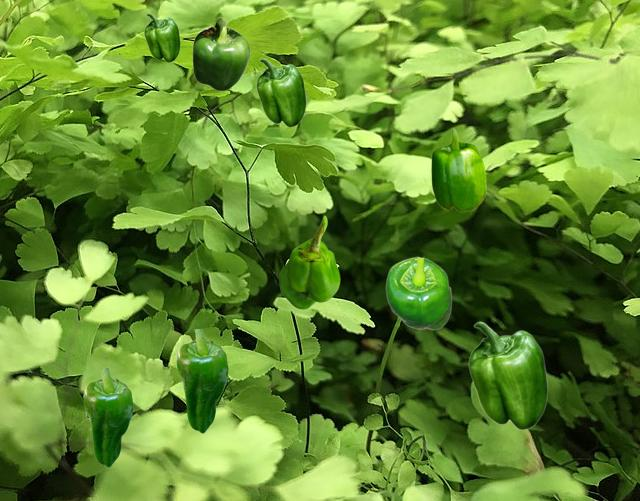bell_pepper: (468, 321, 547, 429), (279, 215, 339, 308), (176, 329, 227, 432), (385, 256, 451, 329), (83, 368, 132, 466), (431, 128, 485, 211), (192, 17, 249, 90), (256, 58, 305, 126), (144, 13, 179, 61)
